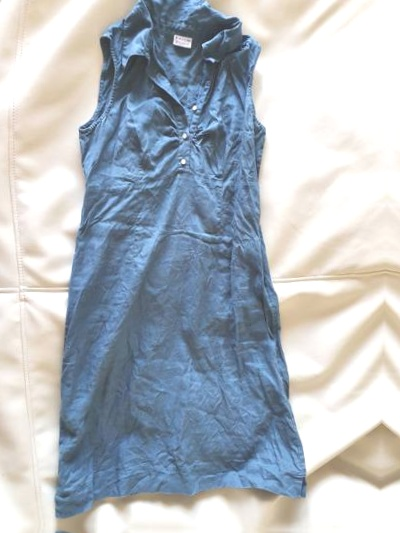Dress: (46, 1, 356, 528), (33, 529, 343, 533)
